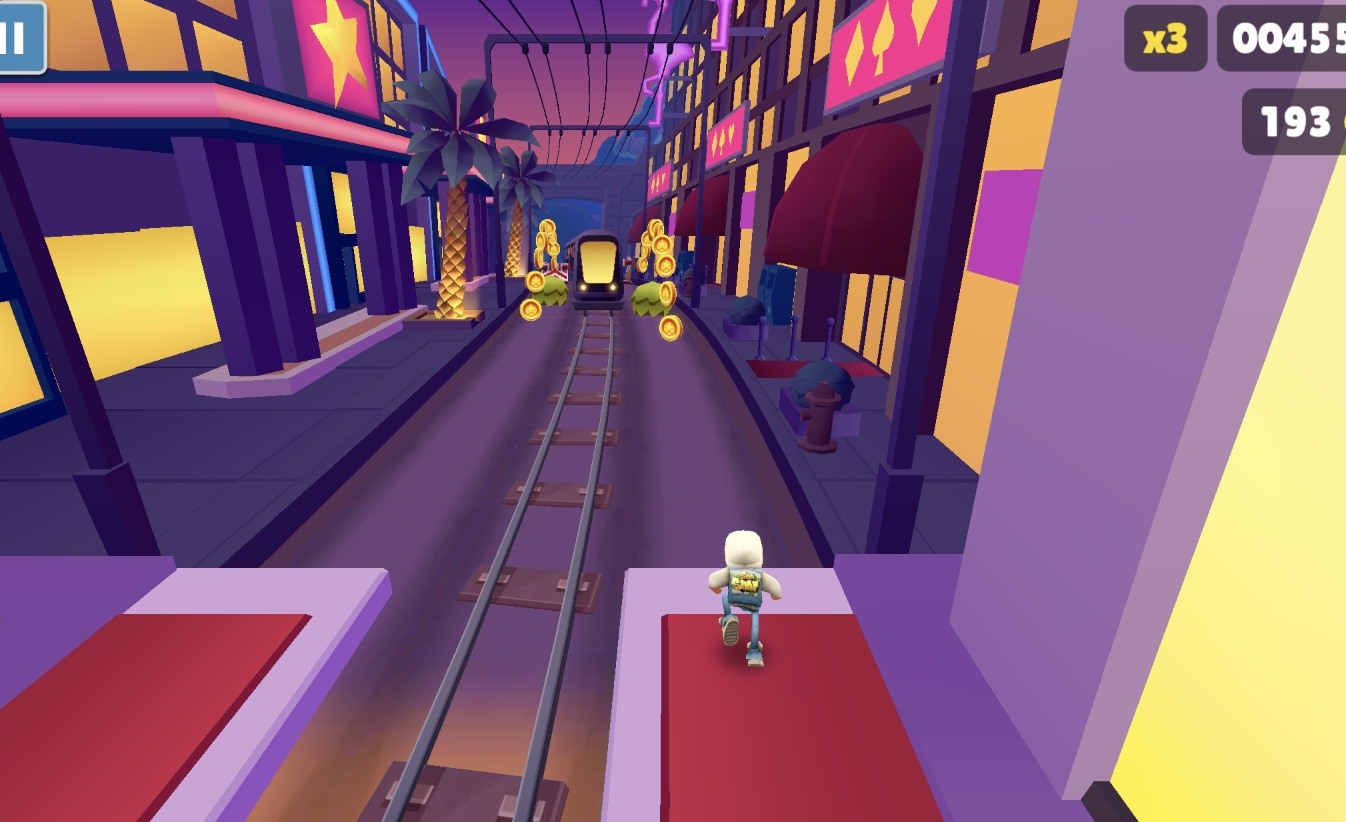bush: (632, 283, 675, 317), (530, 276, 570, 308)
ground_barrier: (543, 263, 571, 283), (624, 259, 644, 285)
train: (571, 231, 624, 313)
